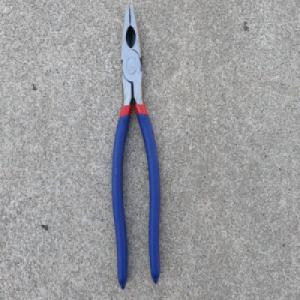Pliers: (108, 2, 161, 292)
